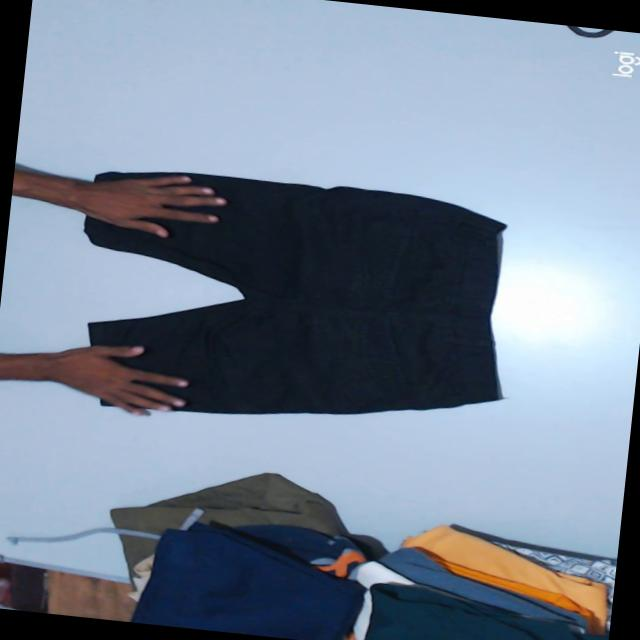new-garment: (85, 172, 505, 413)
